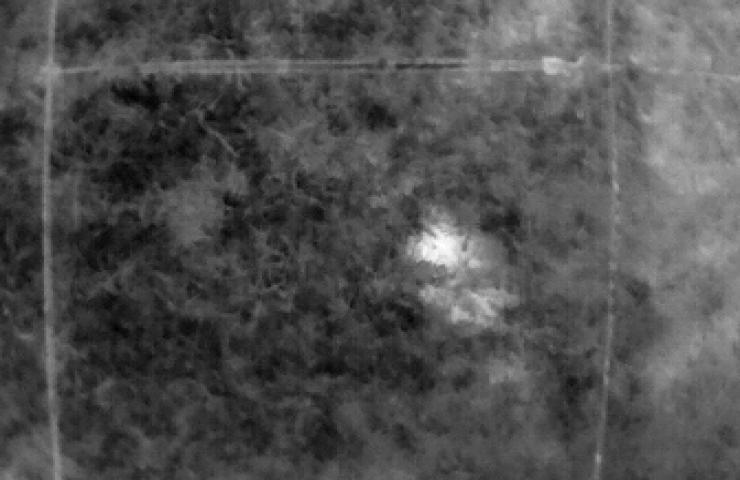landmines: (408, 223, 477, 271)
